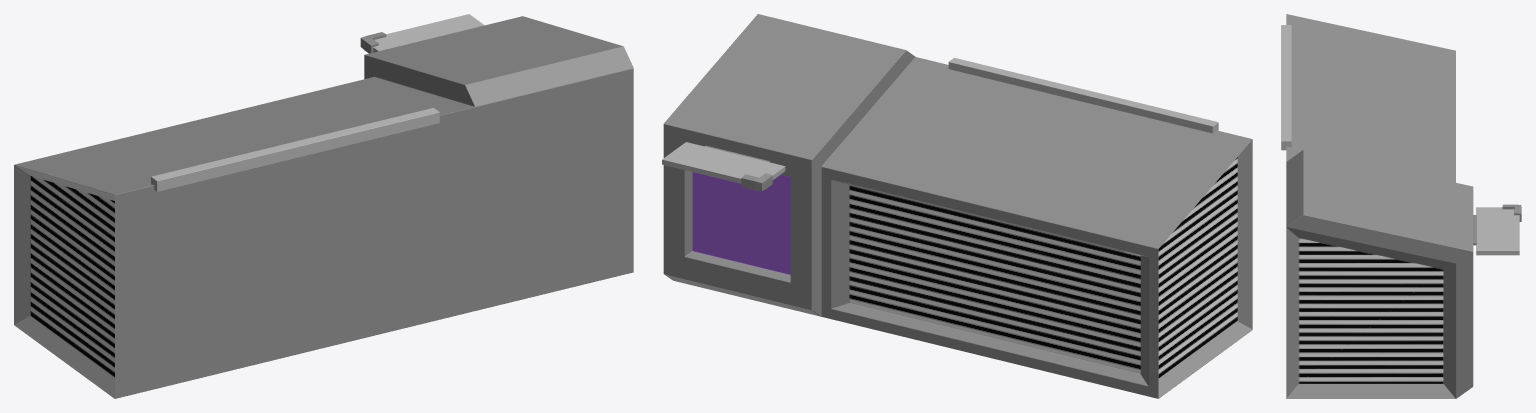
The model's file is SM_Table.fbx.
3 views of the same model, side by side, from view 1: azimuth 30°, elevation 25°; view 2: azimuth 150°, elevation 25°; view 3: azimuth 270°, elevation 25° (orthographic). The views are drawn at different scales.
Visible parts, largest first — view 1: SM_Table; view 2: SM_Table; view 3: SM_Table.
Part boxes in pixels (x1,y1,x2,y2): SM_Table: [14, 14, 633, 398]; SM_Table: [662, 14, 1252, 398]; SM_Table: [1281, 14, 1521, 398].
Size of the model in its own units: 244 by 116 by 98.35.
